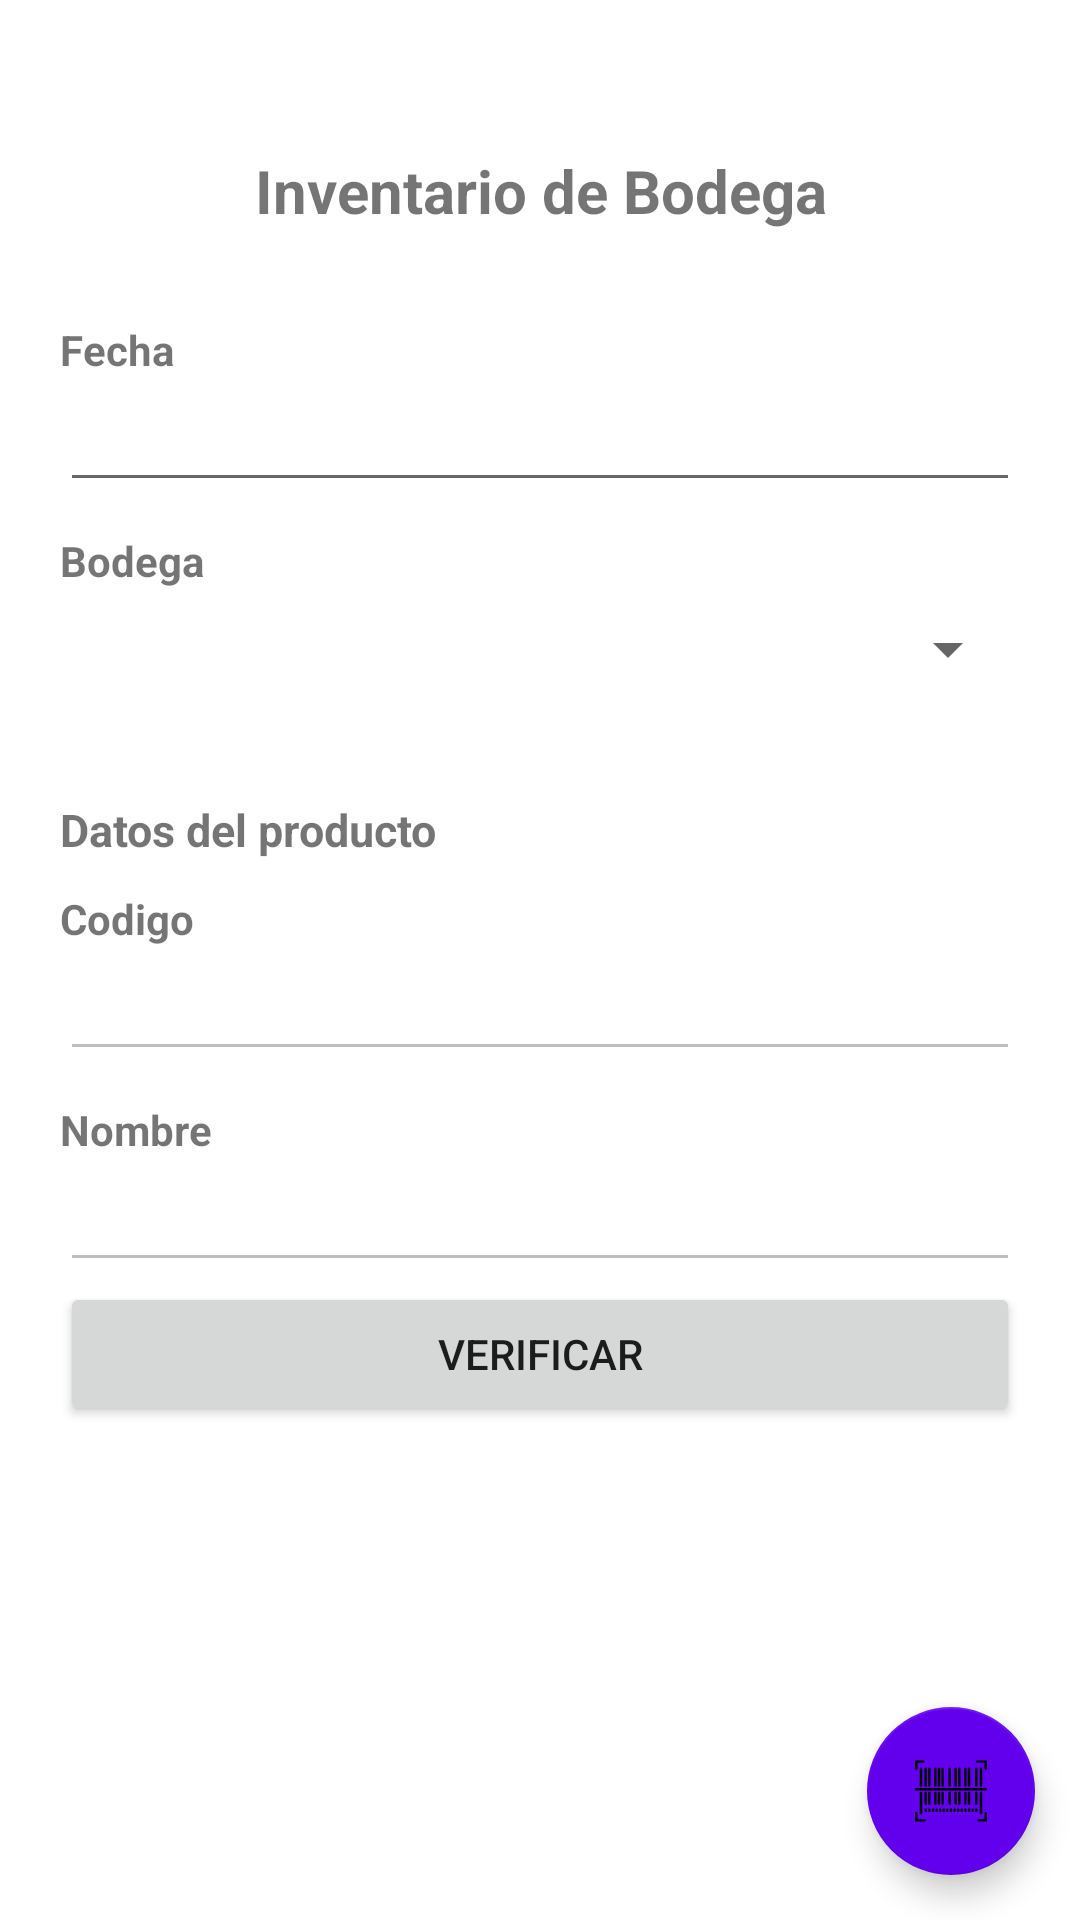

Point at icon controls on the screen. Image size 1080px x 1920px, points as [x,y].
barcode business tools information: [951,1791]
